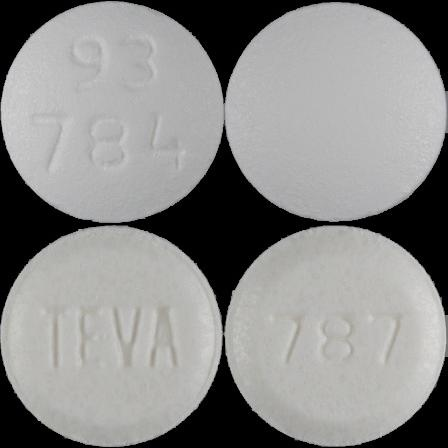0093-0784: (0, 0, 224, 224)
